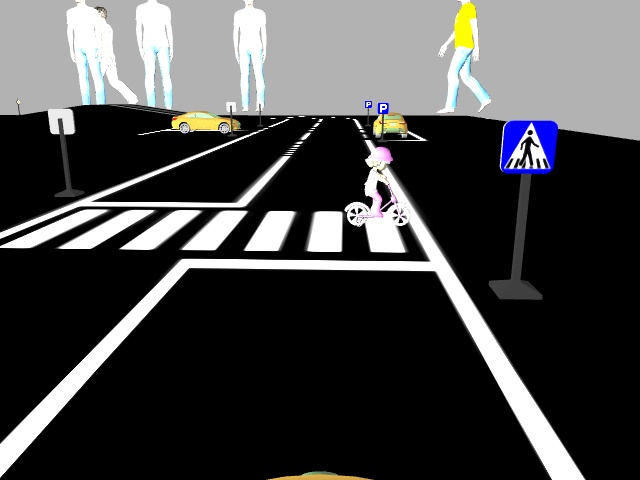Crosswalk: (497, 119, 557, 174)
Parking: (375, 101, 389, 112)
Pedestrian: (338, 147, 413, 227)
